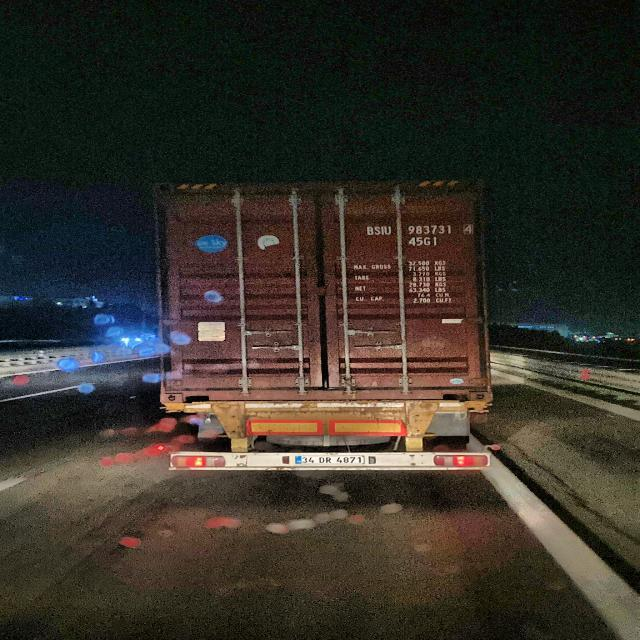ISO: (402, 233, 438, 246)
container_number: (367, 222, 478, 236)
